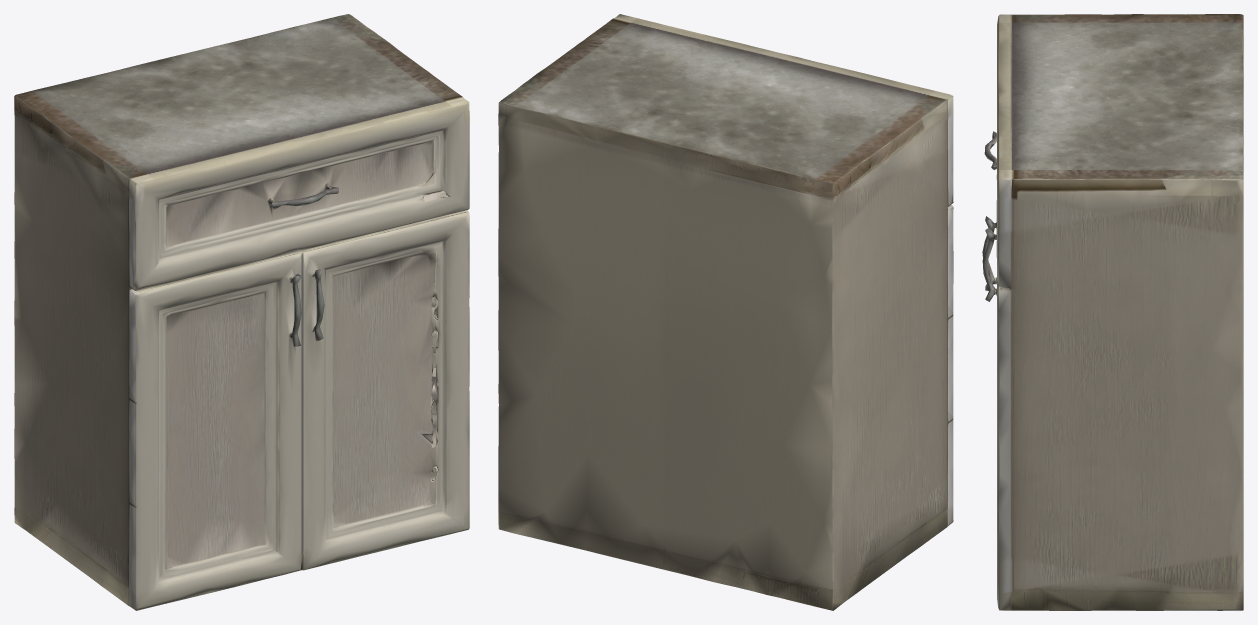
The model's file is 1864b53c-1fbf-4bc4-8fa7-df3623facf25.glb.
3 renders of one model, left to right at view 1: azimuth 30°, elevation 25°; view 2: azimuth 150°, elevation 25°; view 3: azimuth 270°, elevation 25°, orthographic.
Parts seen in each view (by area): view 1: Mesh_0; view 2: Mesh_0; view 3: Mesh_0.
Part boxes in pixels (left/top/right/bottom): Mesh_0: left=14, top=14, right=469, bottom=610; Mesh_0: left=498, top=14, right=953, bottom=610; Mesh_0: left=982, top=14, right=1243, bottom=610.
Bounding box in the file's own units: 1.57 × 1.91 × 1.05.
1 material, 1 textured.
